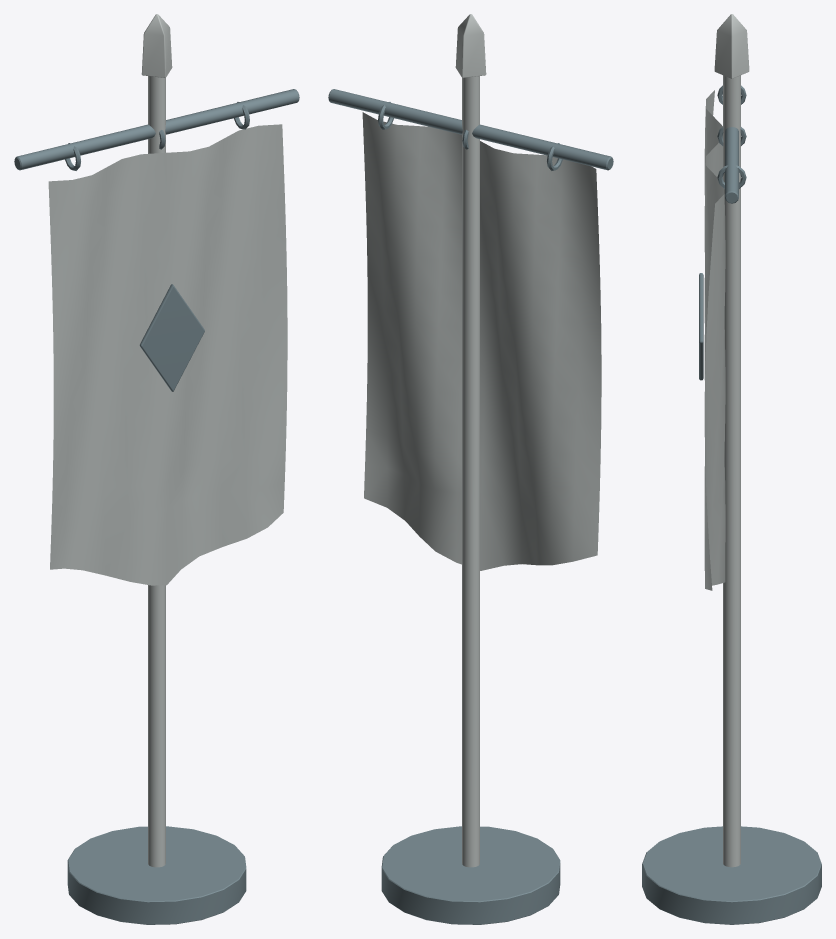
Rendered from banner-pole.glb.
3 renders of one model, left to right at view 1: azimuth 30°, elevation 25°; view 2: azimuth 150°, elevation 25°; view 3: azimuth 270°, elevation 25°, orthographic.
Parts seen in each view (by area): view 1: hanging_banner, weighted_base, pole, crossbar, raised_emblem, spear_finial; view 2: hanging_banner, weighted_base, pole, crossbar, spear_finial; view 3: weighted_base, pole, hanging_banner, spear_finial, crossbar, raised_emblem.
Boxes of the visible parts, x1,y1,x2,y2 form: hanging_banner: [48, 124, 287, 585]; weighted_base: [67, 826, 246, 924]; pole: [148, 76, 165, 867]; crossbar: [14, 89, 299, 170]; raised_emblem: [139, 284, 204, 391]; spear_finial: [141, 14, 172, 77]; hanging_banner: [362, 112, 601, 570]; weighted_base: [381, 826, 560, 924]; pole: [462, 76, 479, 867]; crossbar: [328, 89, 613, 170]; spear_finial: [455, 14, 486, 77]; weighted_base: [642, 826, 821, 924]; pole: [723, 75, 740, 867]; hanging_banner: [704, 90, 725, 590]; spear_finial: [714, 14, 749, 78]; crossbar: [725, 127, 738, 203]; raised_emblem: [699, 273, 703, 380].
Bounding box in the file's own units: 0.86 × 2.57 × 0.48.
